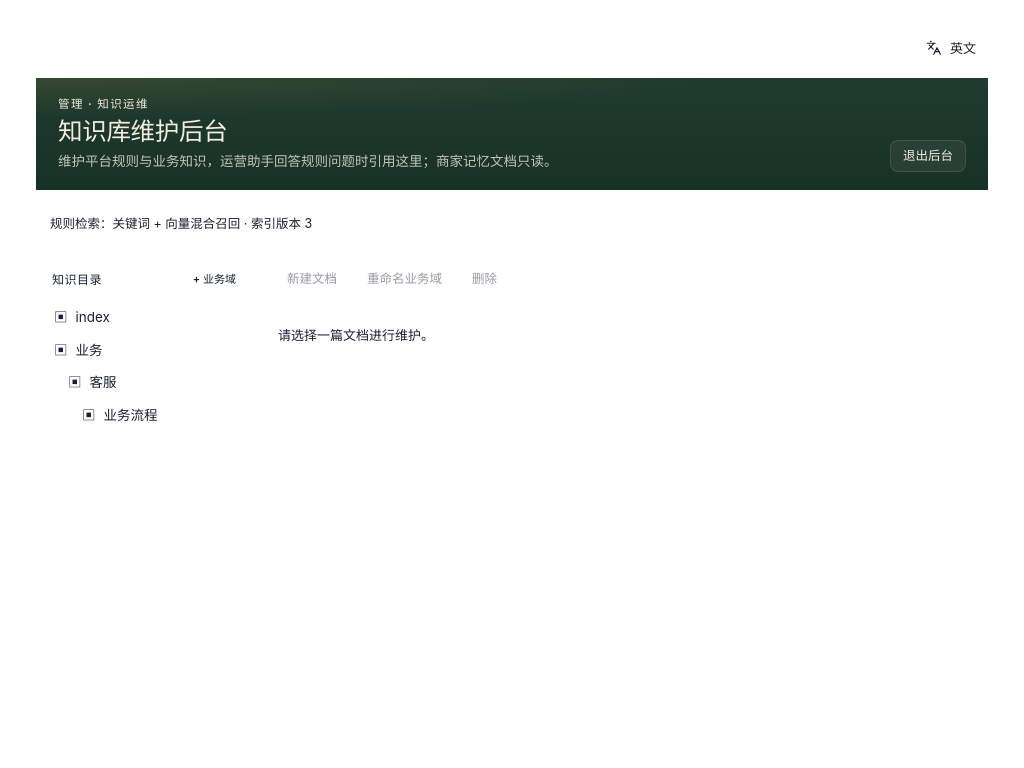
Test: KnowledgeBaseView › 新建业务域失败时对话框展示错误并保持打开
Click the button with test id "create-domain". click: (214, 280)
box: [185, 266, 244, 294]
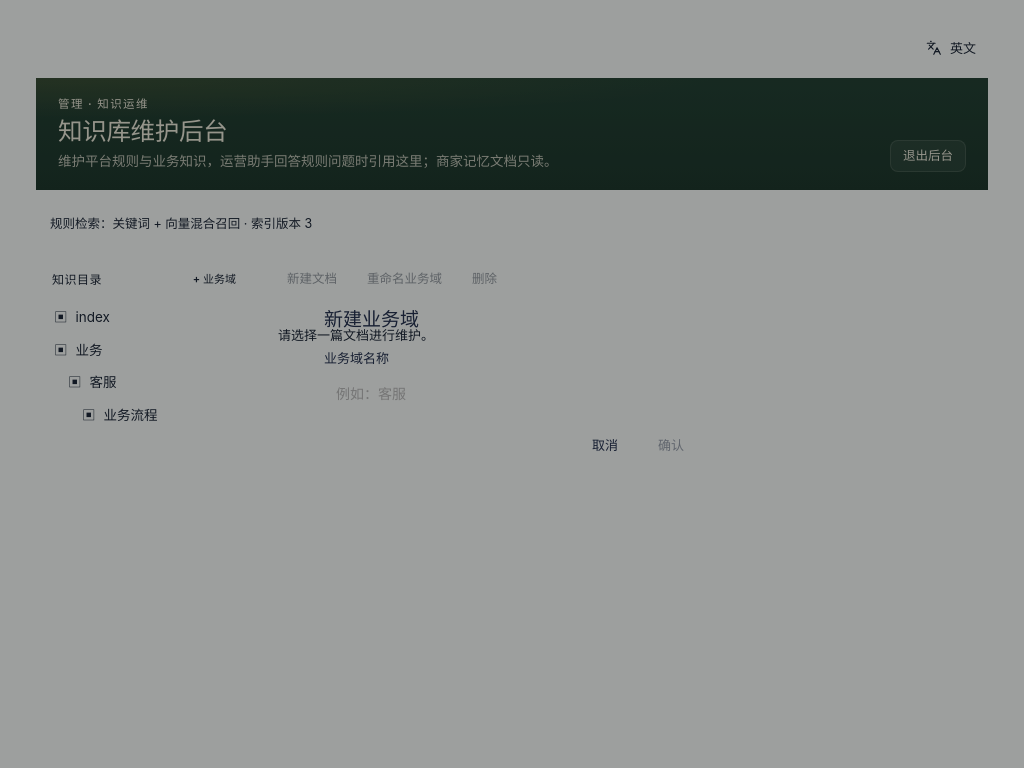
Type "客服" into the field labelled "业务域名称". click: (512, 394)
box: [324, 376, 700, 412]
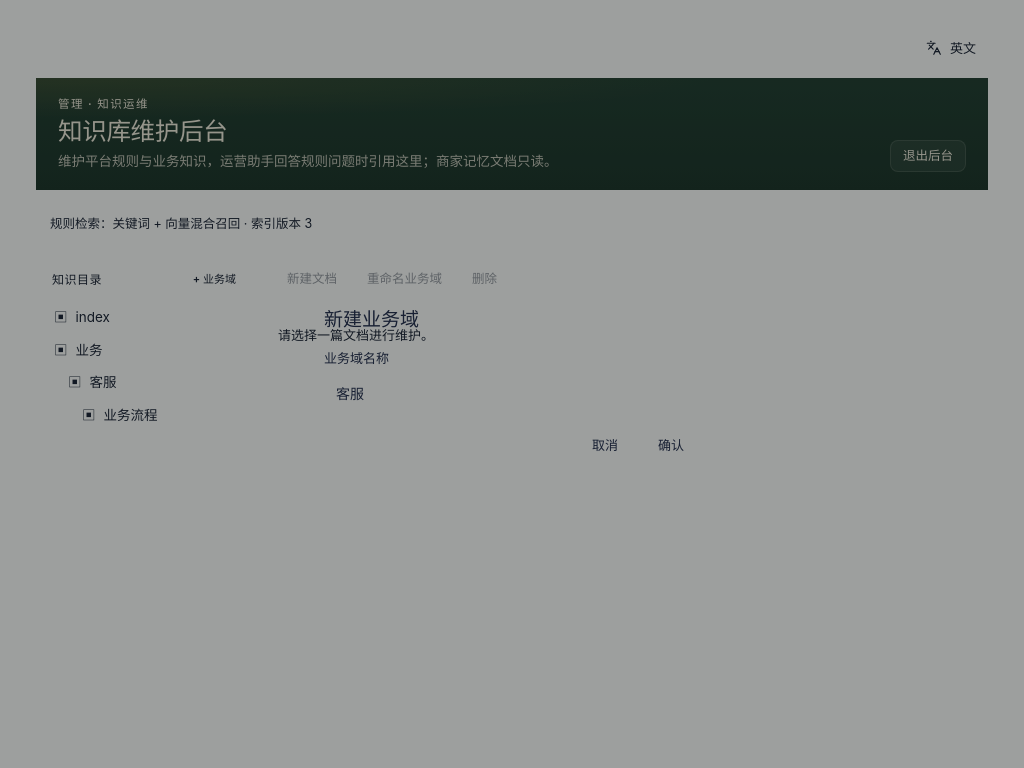
Submit the form, box [324, 349, 700, 462]
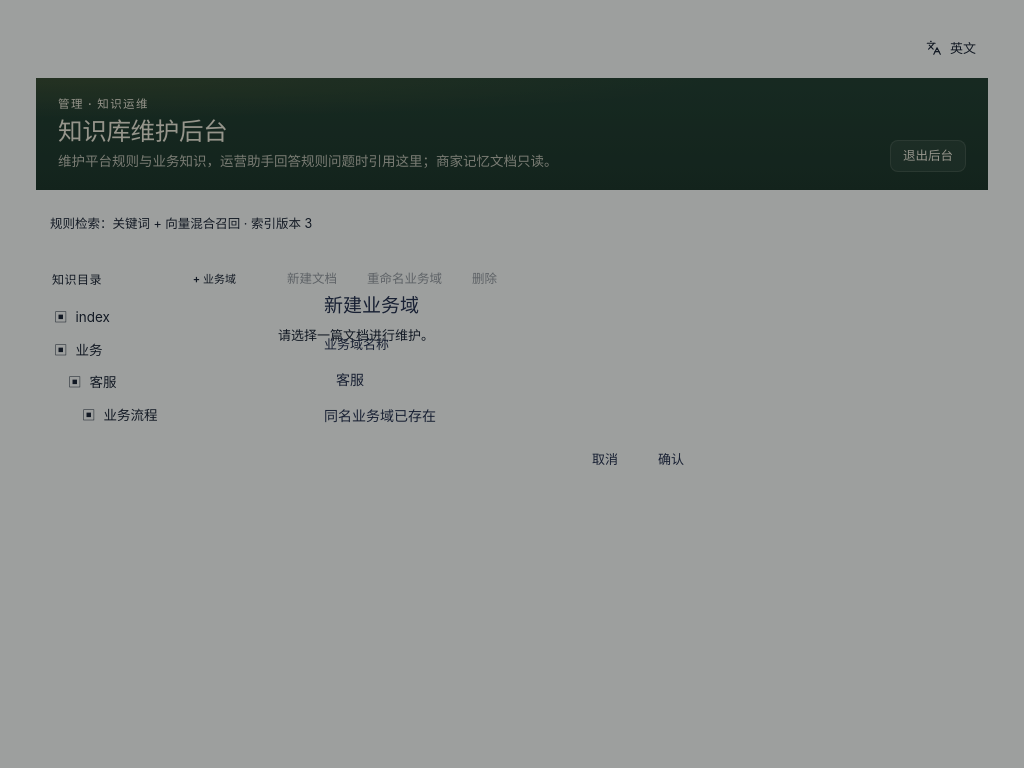
expect the element showing "新建业务域 业务域名称 同名业务域已存在 取消 确认" is shown: met
expect the text "同名业务域已存在" is shown: met, box [324, 407, 436, 424]
